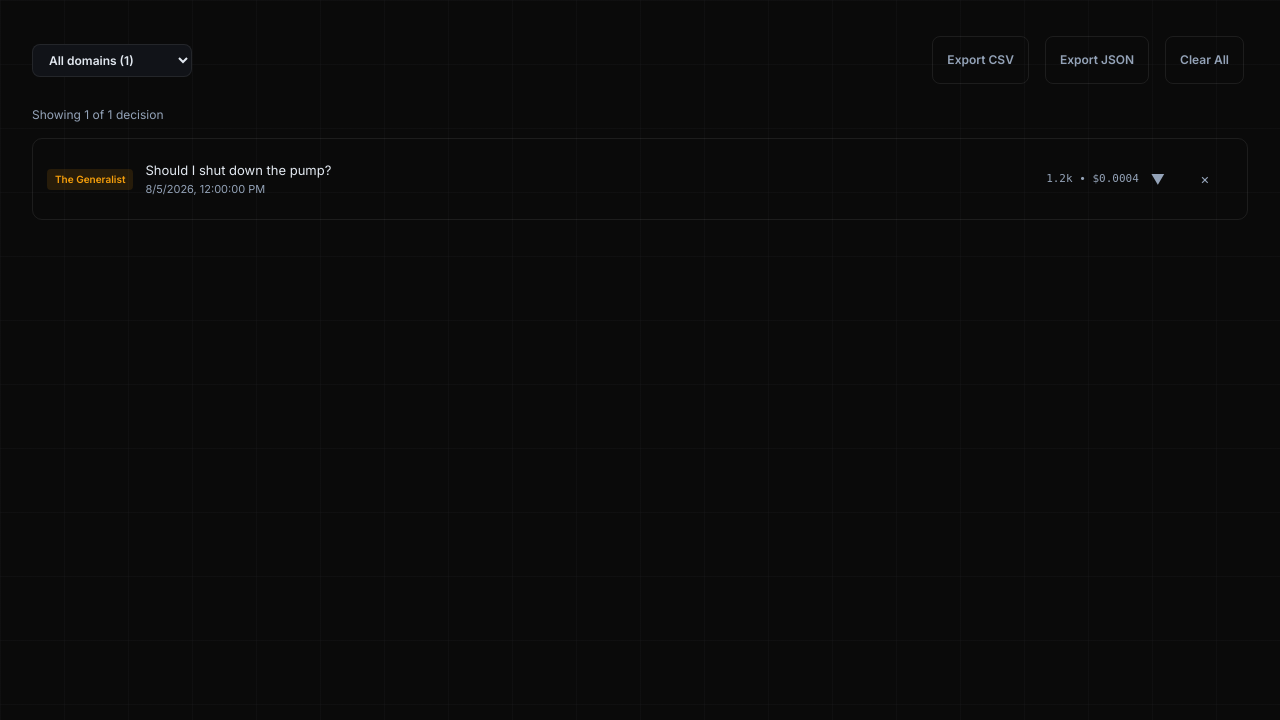
Scenario: DecisionFeed › expands detail on row click and collapses on second click
Step 1. Click the text "Should I shut down the pump?" → [238, 170], box [146, 162, 331, 178]
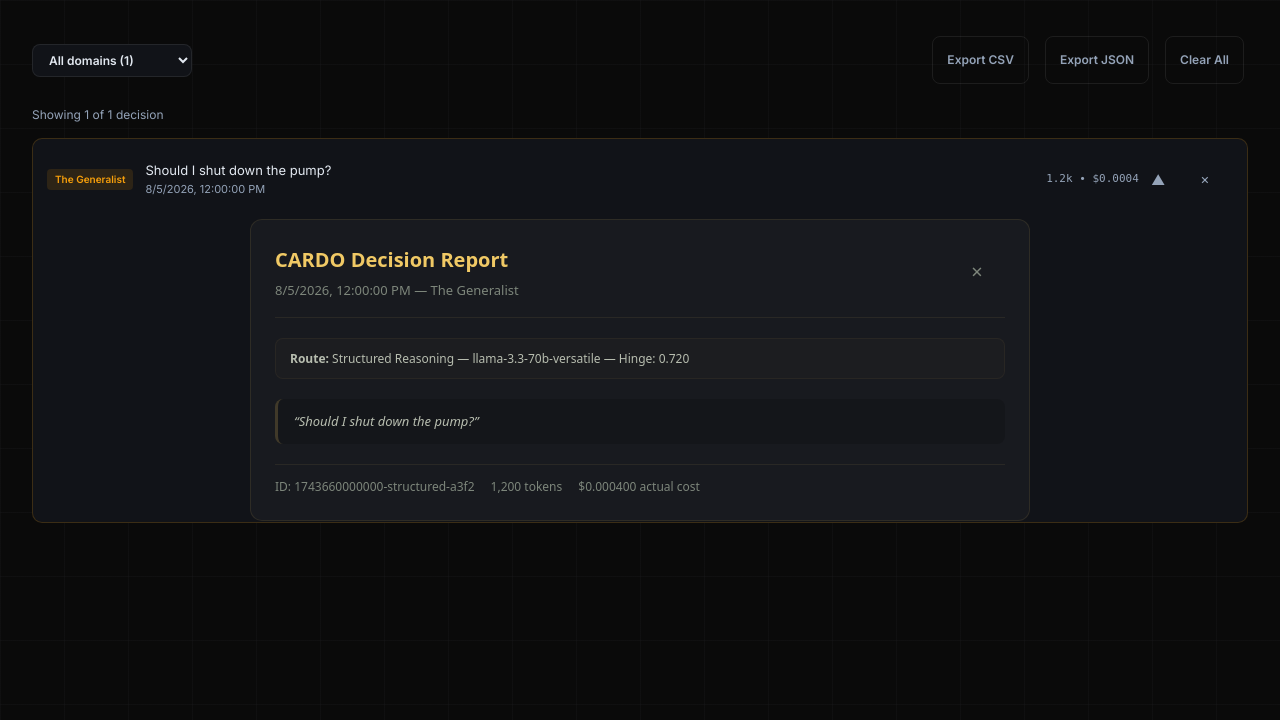
Result: the heading "CARDO Decision Report" is shown at [275, 244, 519, 276]
Step 2. Click the text "Should I shut down the pump?" → [238, 170], box [146, 162, 331, 178]
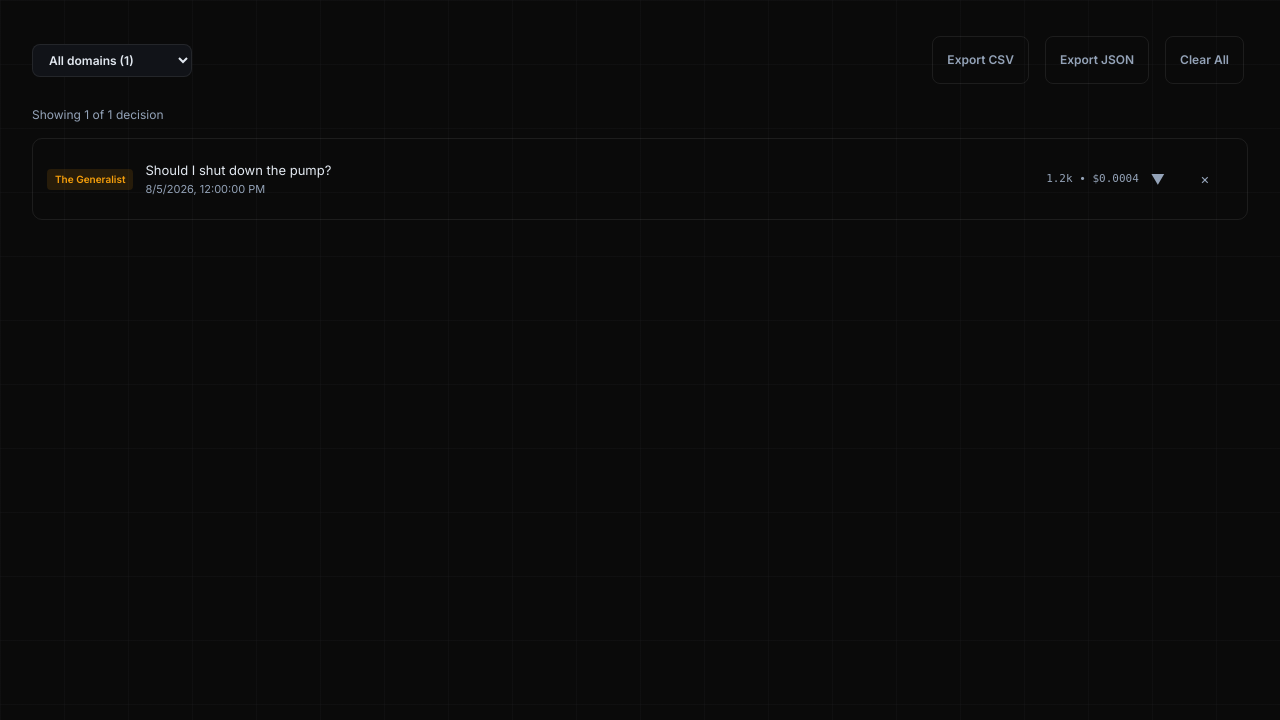
Result: the heading "CARDO Decision Report" is gone
